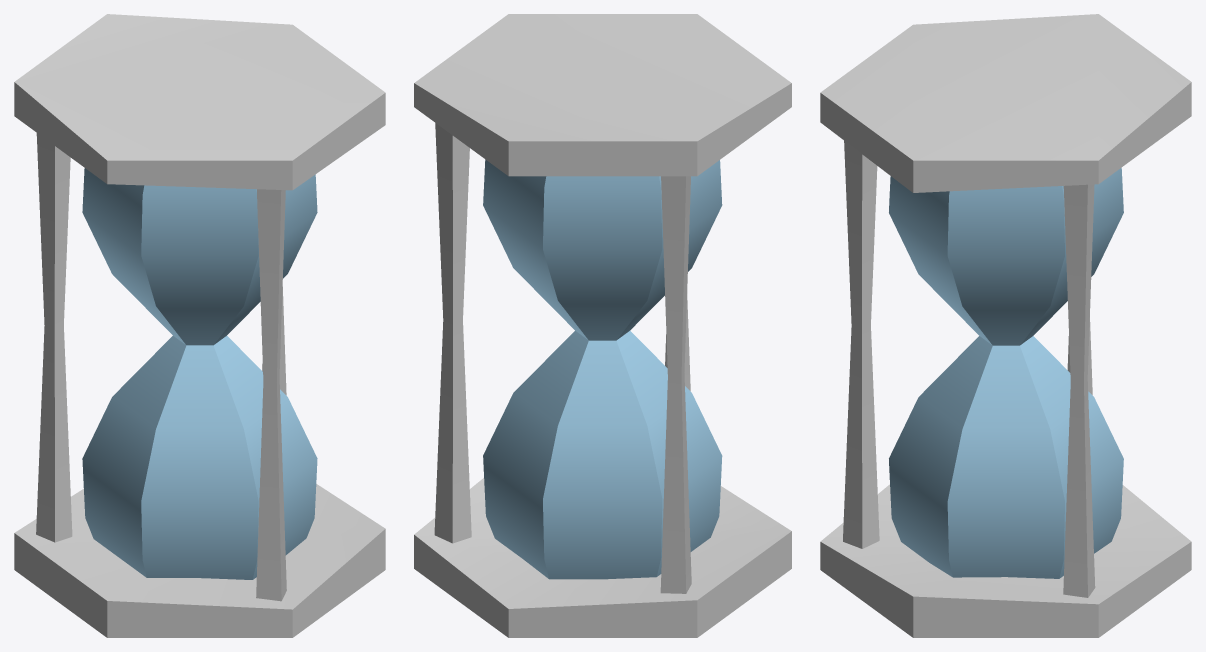
File: hourglass.fbx
The picture shows the model from 3 angles, left to right: view 1: azimuth 30°, elevation 25°; view 2: azimuth 150°, elevation 25°; view 3: azimuth 270°, elevation 25°; orthographic projection.
Visible parts, largest first — view 1: hourglass, hourglass_glass; view 2: hourglass, hourglass_glass; view 3: hourglass, hourglass_glass.
Part boxes in pixels (x1=…): hourglass: x1=14, y1=14, x2=385, y2=637; hourglass_glass: x1=82, y1=168, x2=317, y2=579; hourglass: x1=414, y1=14, x2=791, y2=637; hourglass_glass: x1=483, y1=159, x2=722, y2=579; hourglass: x1=820, y1=14, x2=1191, y2=637; hourglass_glass: x1=889, y1=168, x2=1123, y2=578.
Bounding box in the file's own units: 16.4 × 27.47 × 18.94.
